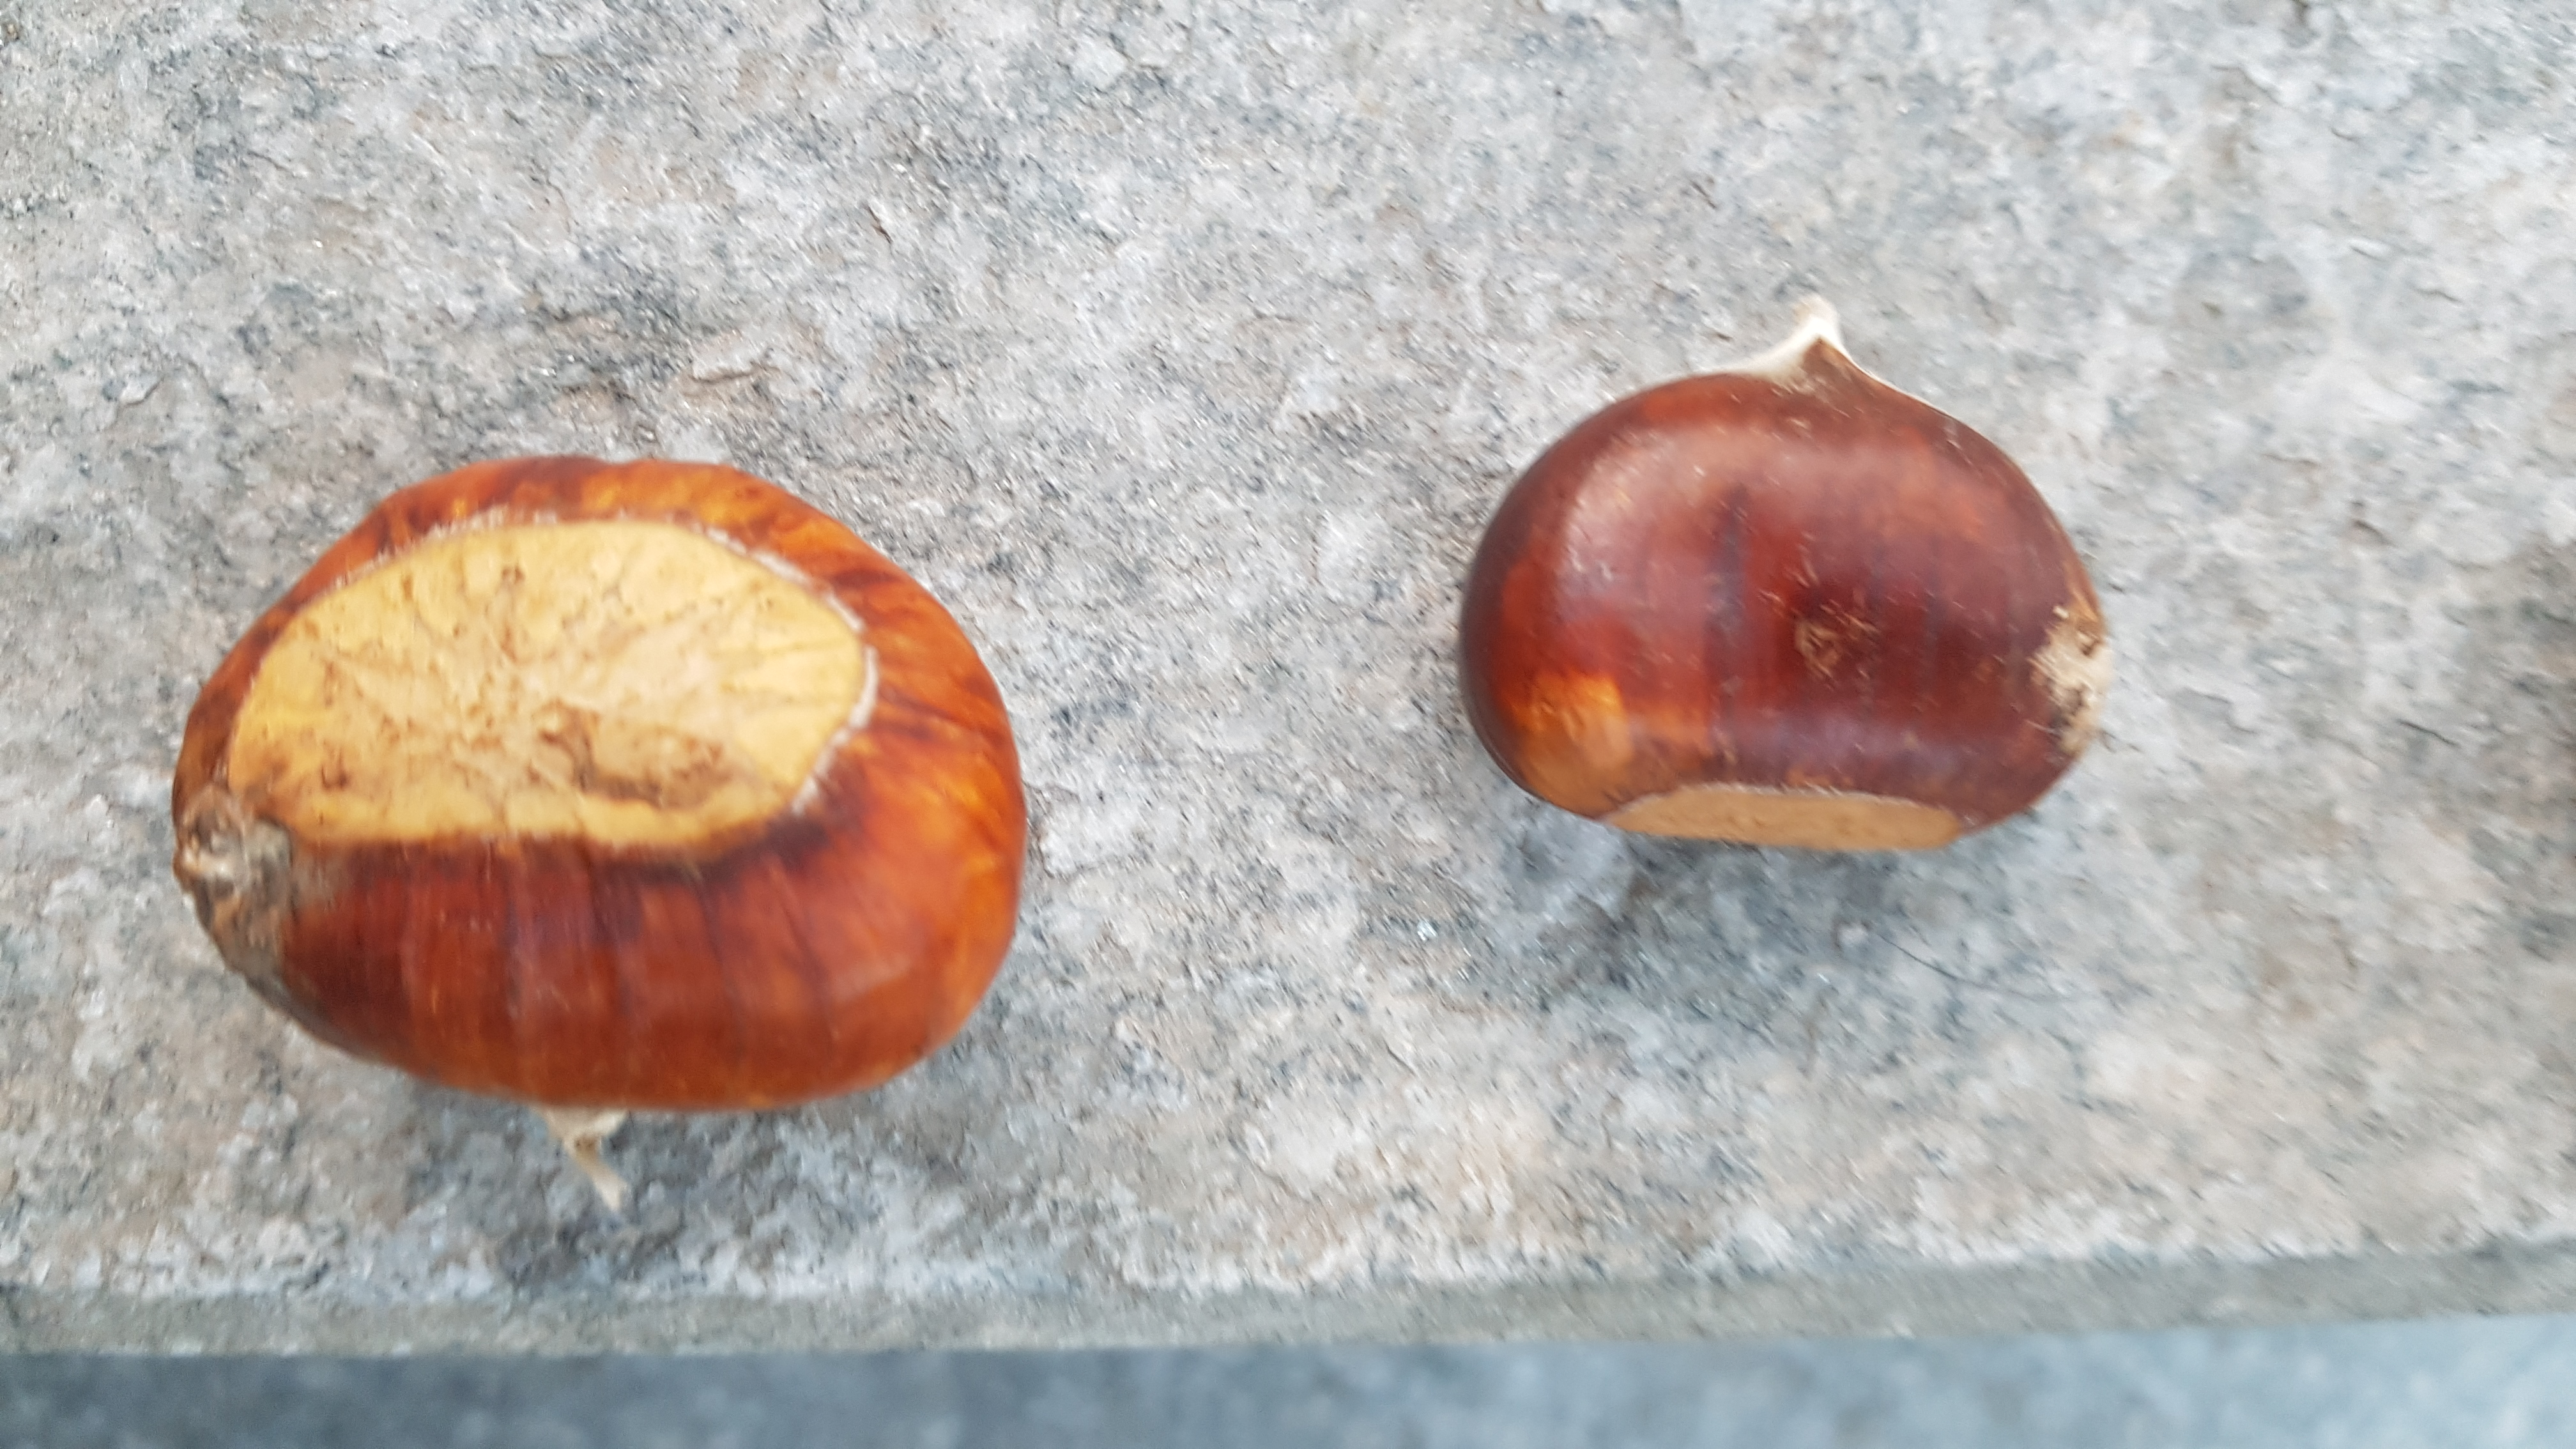camola: (173, 793, 311, 1001), (2013, 571, 2121, 725)
